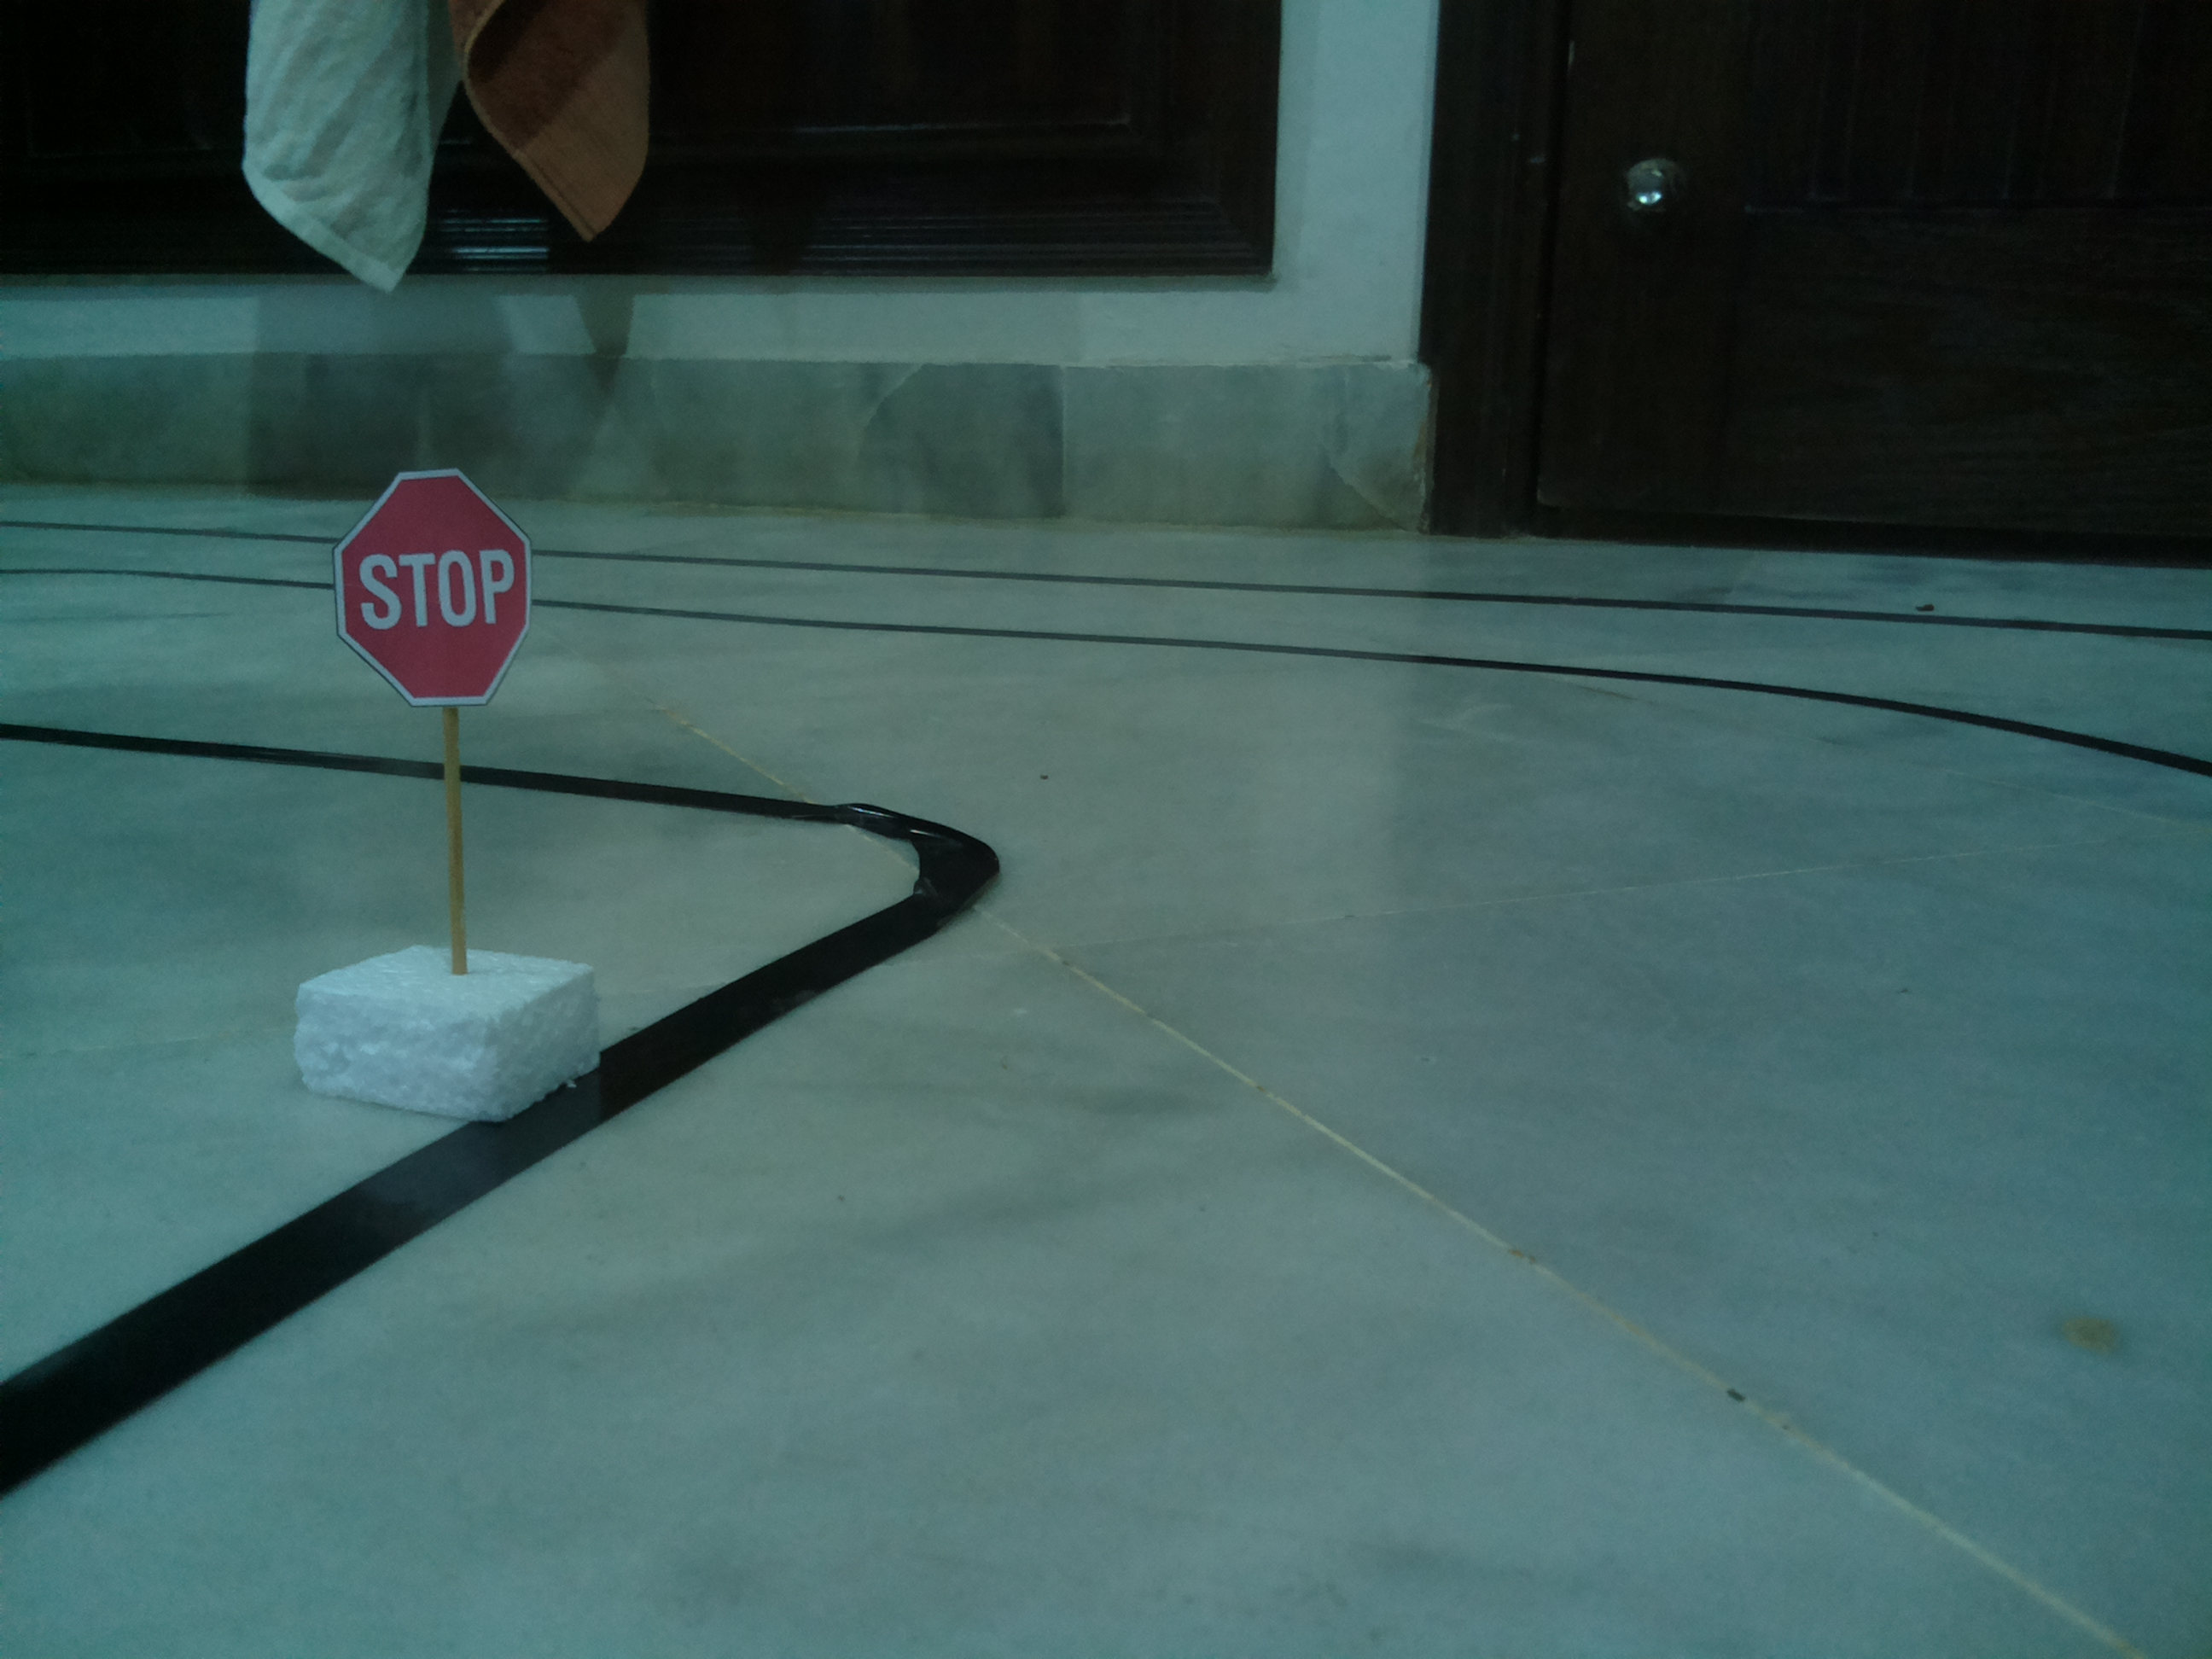Stop sign: (331, 464, 535, 708)
